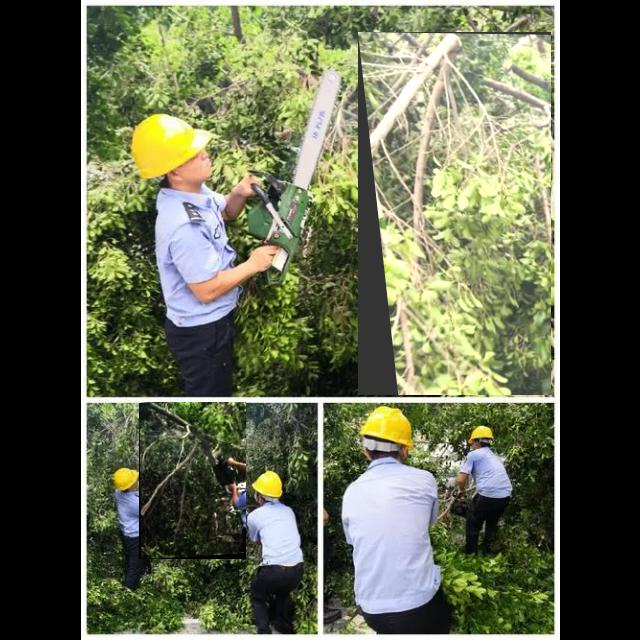Fallen Tree: (358, 32, 552, 396), (139, 402, 247, 560)
